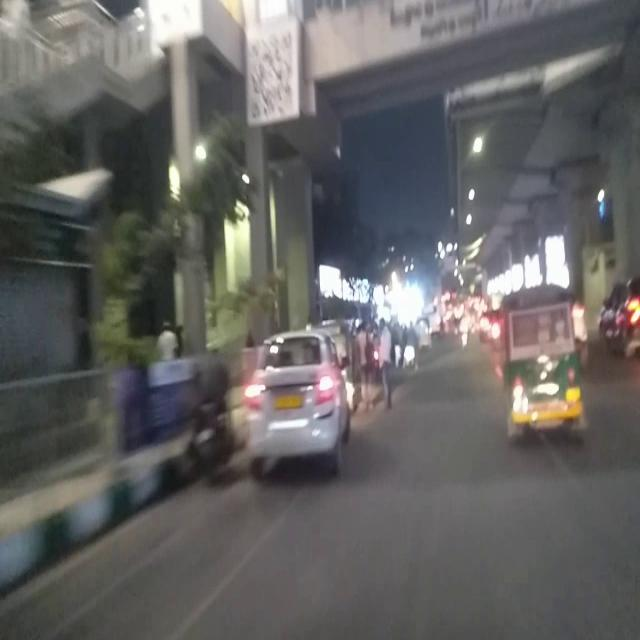auto: (495, 289, 590, 437)
car: (244, 325, 354, 484)
road: (168, 490, 639, 640), (242, 352, 640, 488), (0, 590, 169, 639)
sidewalk: (0, 467, 167, 592), (123, 428, 194, 487)
